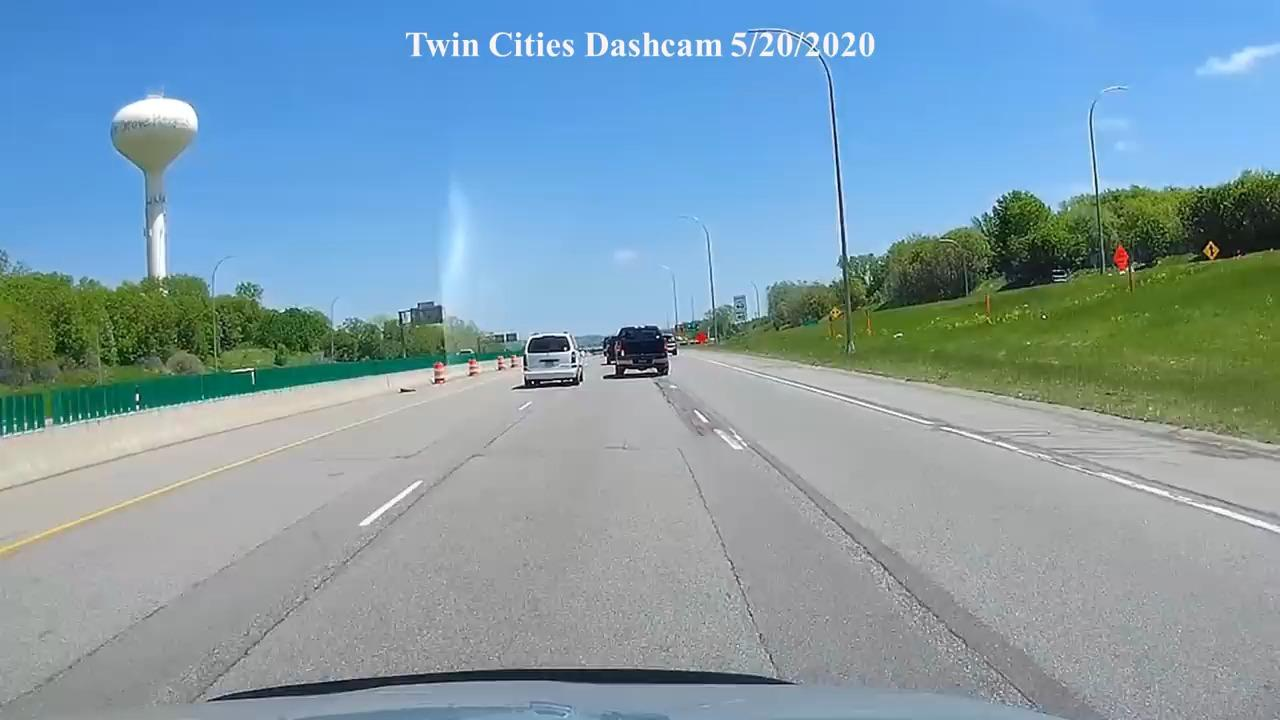car: (522, 332, 585, 388)
traffic cone: (433, 361, 447, 384), (467, 356, 480, 376), (496, 355, 507, 371)
traffic light: (1114, 245, 1129, 272)
